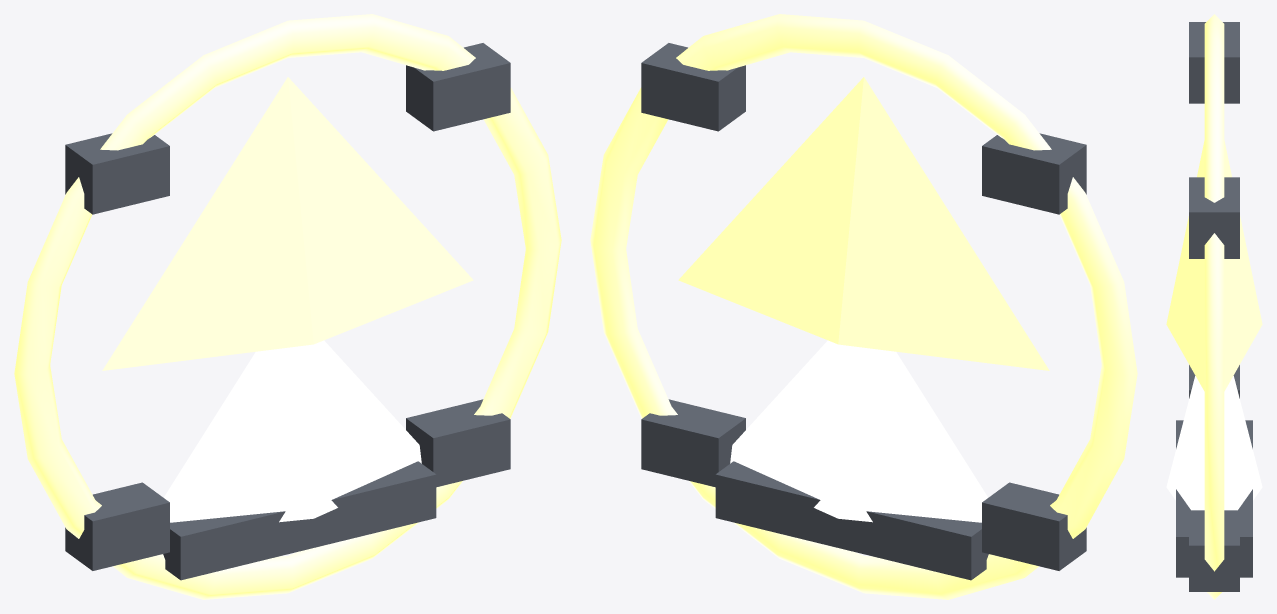
Rendered from pickup-weapon.glb.
The picture shows the model from 3 angles, left to right: view 1: azimuth 30°, elevation 25°; view 2: azimuth 150°, elevation 25°; view 3: azimuth 270°, elevation 25°; orthographic projection. The views are drawn at different scales.
Visible parts, largest first — view 1: 箭簇0, 能量环, 箭簇1, 底座, 角标2, 角标0, 角标3, 角标1; view 2: 箭簇0, 能量环, 箭簇1, 底座, 角标2, 角标0, 角标3, 角标1; view 3: 能量环, 箭簇0, 箭簇1, 角标0, 角标3, 角标1, 底座, 角标2.
Part boxes in pixels (left/top/right/bottom): 箭簇0: left=102, top=77, right=473, bottom=370; 能量环: left=14, top=14, right=561, bottom=599; 箭簇1: left=163, top=340, right=421, bottom=522; 底座: left=163, top=461, right=436, bottom=580; 角标2: left=65, top=482, right=169, bottom=570; 角标0: left=406, top=43, right=510, bottom=131; 角标3: left=406, top=399, right=510, bottom=487; 角标1: left=65, top=133, right=169, bottom=214; 箭簇0: left=678, top=77, right=1049, bottom=370; 能量环: left=590, top=14, right=1137, bottom=599; 箭簇1: left=730, top=340, right=988, bottom=522; 底座: left=715, top=461, right=988, bottom=580; 角标2: left=982, top=482, right=1086, bottom=570; 角标0: left=641, top=43, right=745, bottom=131; 角标3: left=641, top=399, right=745, bottom=487; 角标1: left=982, top=133, right=1086, bottom=214; 能量环: left=1204, top=14, right=1224, bottom=599; 箭簇0: left=1166, top=140, right=1262, bottom=391; 箭簇1: left=1166, top=376, right=1262, bottom=510; 角标0: left=1189, top=177, right=1239, bottom=258; 角标3: left=1189, top=510, right=1239, bottom=591; 角标1: left=1189, top=22, right=1239, bottom=103; 底座: left=1176, top=420, right=1252, bottom=577; 角标2: left=1189, top=365, right=1239, bottom=398.
Size of the model in its own units: 1.84 by 1.84 by 0.3.
